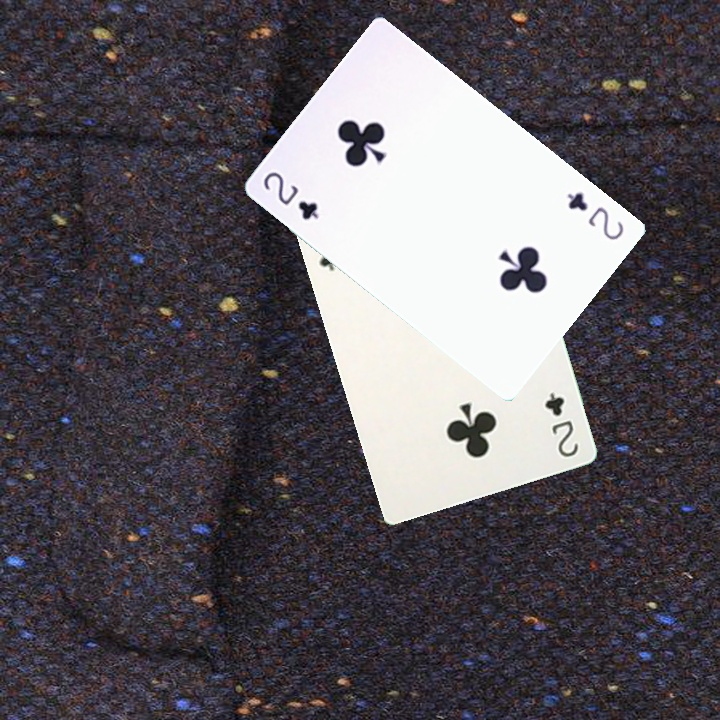2c: (562, 188, 627, 243), (259, 167, 322, 223), (540, 388, 581, 460)
